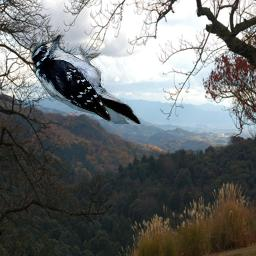Woodpecker: (30, 36, 143, 125)
